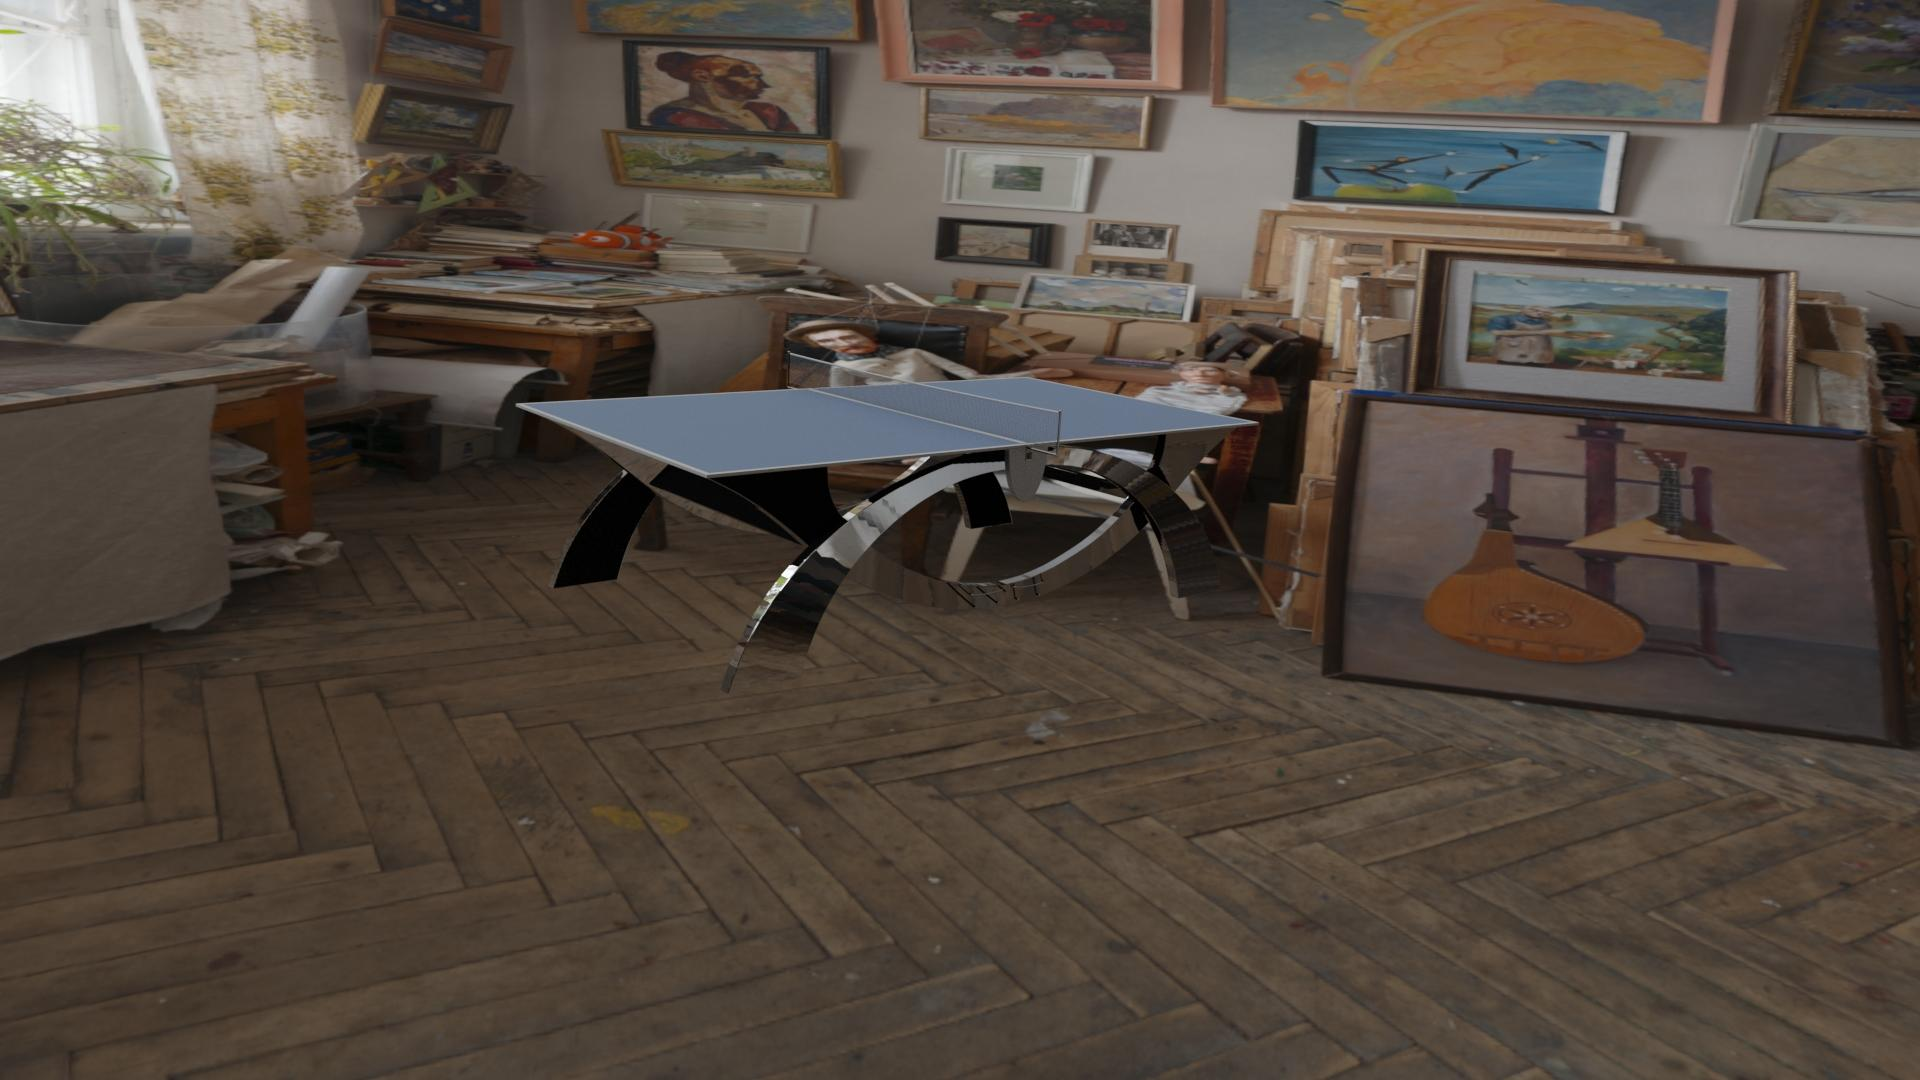table: (522, 377, 1253, 473)
